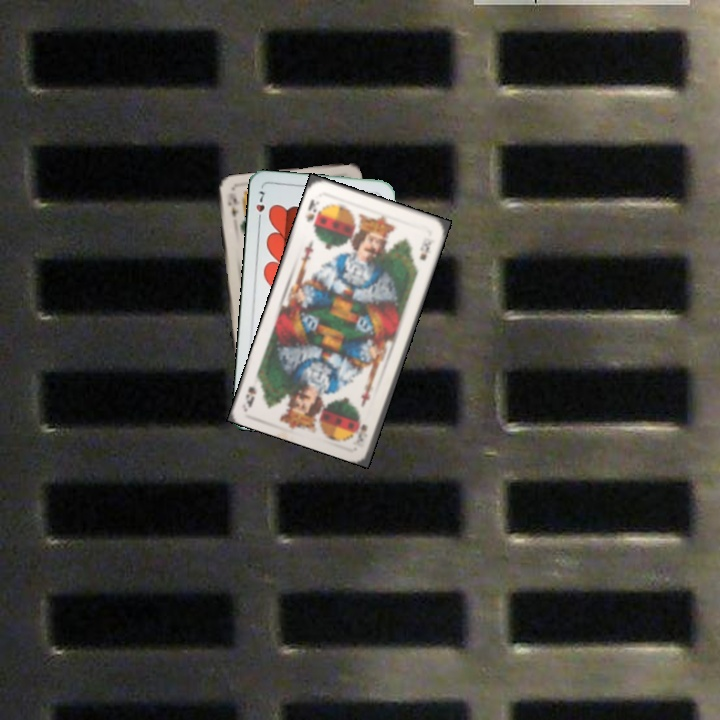EK: (223, 189, 240, 219)
H7: (252, 187, 267, 225)
SK: (302, 195, 322, 229), (353, 420, 370, 445)
